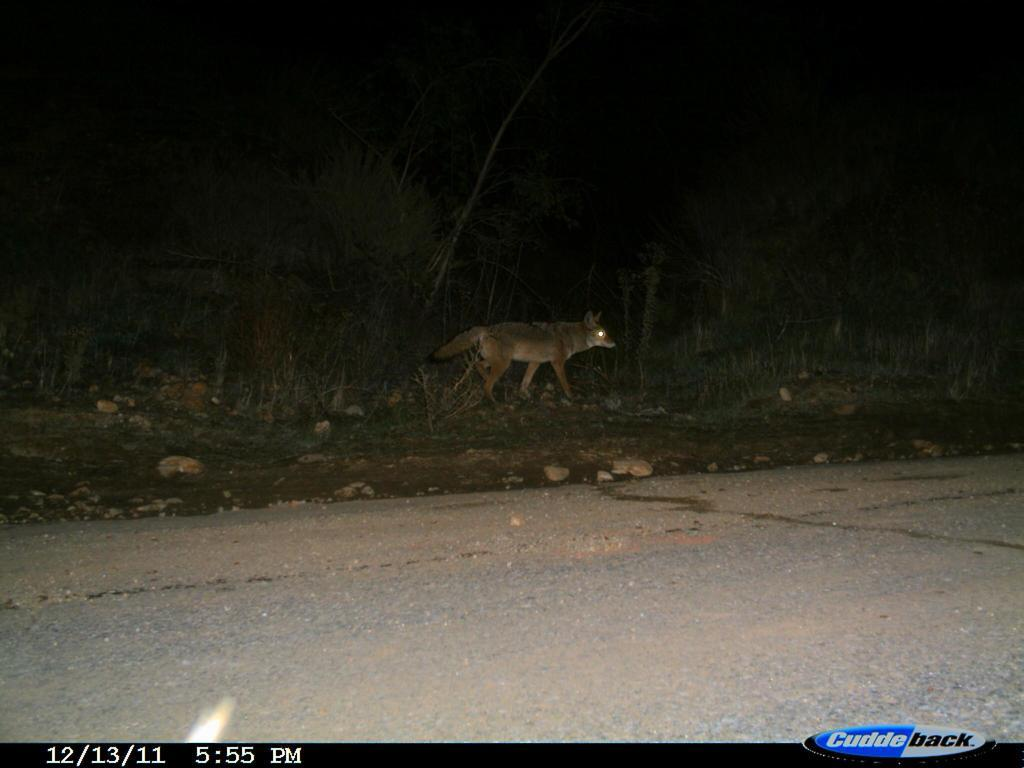coyote: (424, 290, 621, 415)
